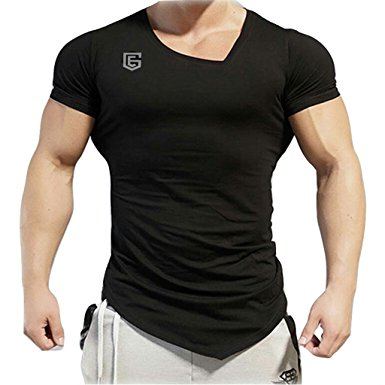T-Shirt: (47, 8, 366, 356)
